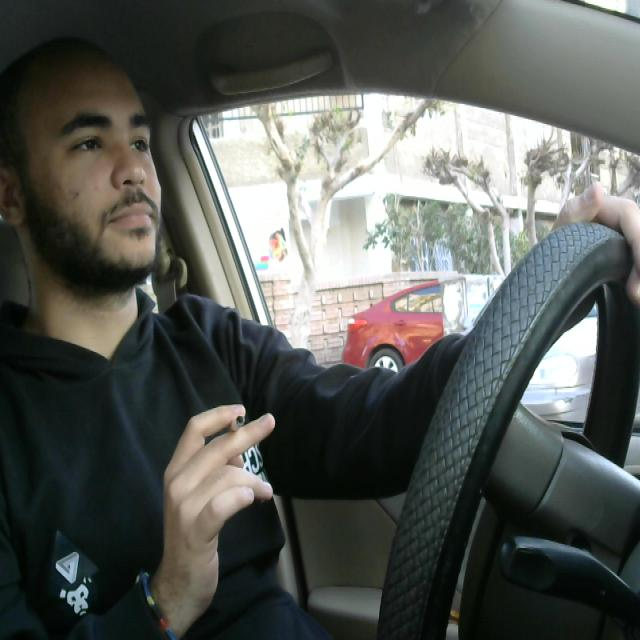smoking: (225, 408, 250, 441)
